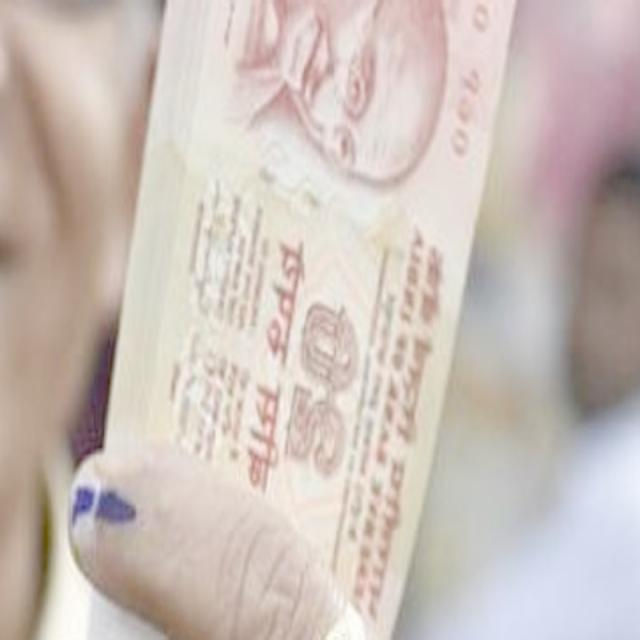20rs: (70, 2, 518, 640)
